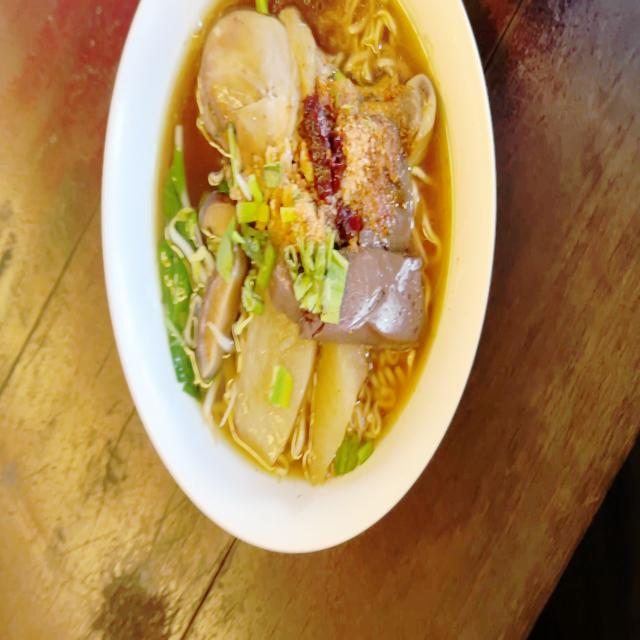boiled_chicken_blood_jelly: (309, 249, 425, 348)
chicken_drumstick: (198, 21, 431, 163)
daikon_radish: (234, 312, 358, 454)
noodle: (145, 0, 465, 482)
